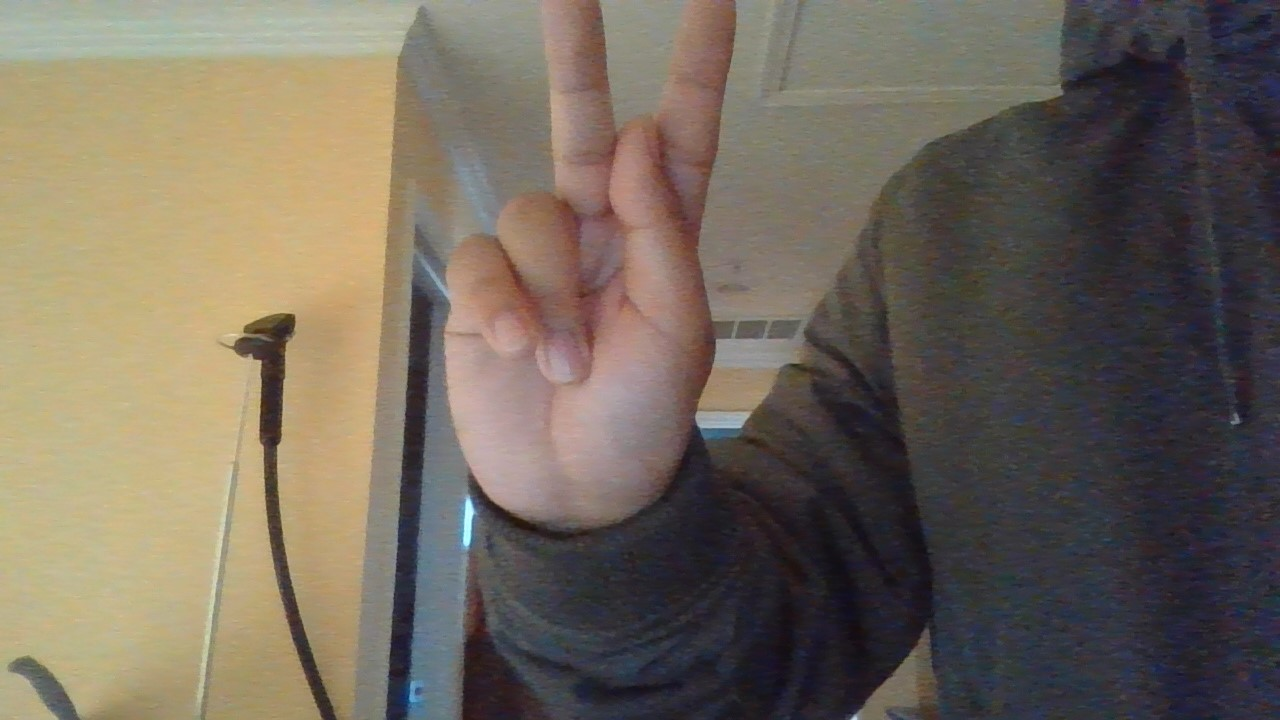k: (415, 1, 767, 523)
